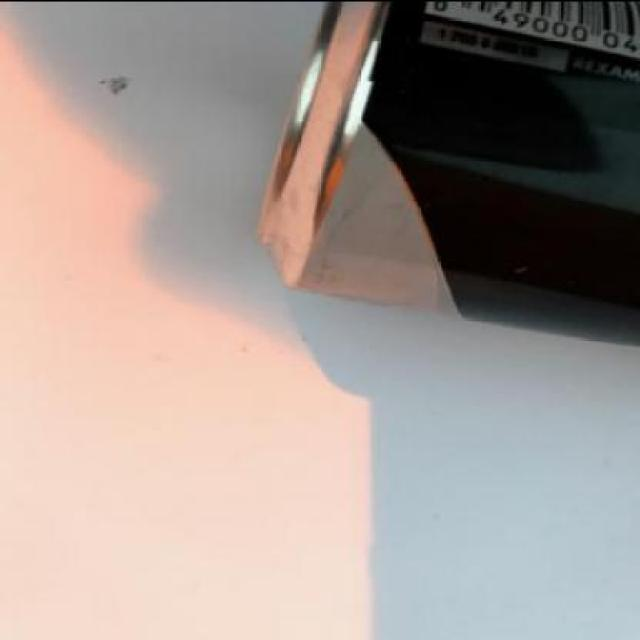METAL: (254, 2, 638, 346)
